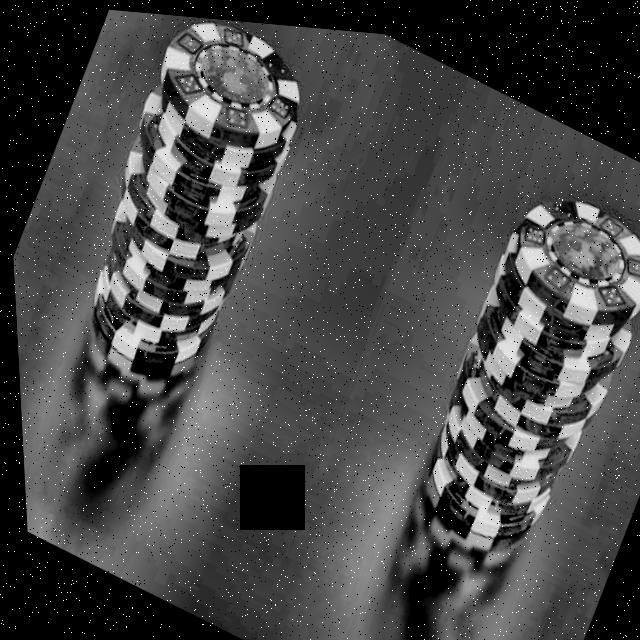Chip: (34, 2, 340, 412), (377, 143, 640, 579)
